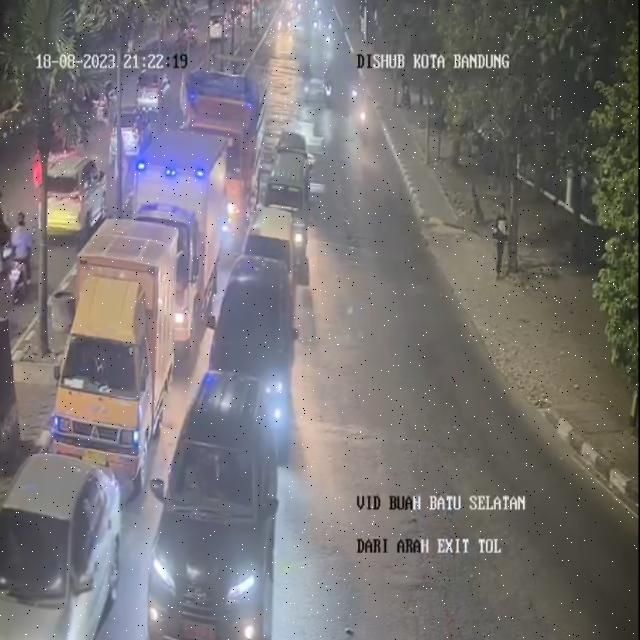cars: (151, 366, 281, 636), (49, 217, 171, 491), (0, 454, 123, 639), (209, 209, 302, 447), (135, 132, 227, 353), (183, 86, 256, 243), (257, 139, 310, 252)
motorcycle: (349, 80, 372, 130), (296, 56, 319, 106), (322, 64, 338, 114)
